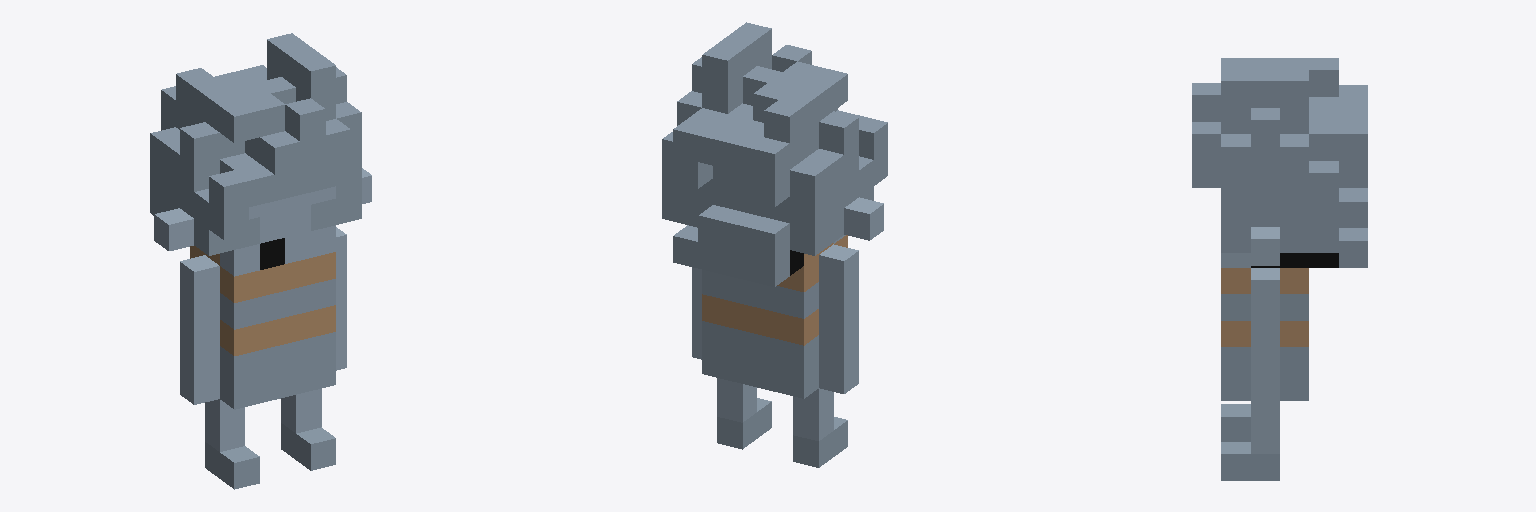
3 renders of one model, left to right at view 1: azimuth 30°, elevation 25°; view 2: azimuth 150°, elevation 25°; view 3: azimuth 270°, elevation 25°, orthographic.
Visible parts, largest first — view 1: boy2-3; view 2: boy2-3; view 3: boy2-3.
Boxes of the visible parts, <box> form: boy2-3: <box>150,33,371,489</box>; boy2-3: <box>662,22,887,467</box>; boy2-3: <box>1192,58,1367,480</box>.
Size of the model in its own units: 8 by 15 by 6.
1 materials, 1 textured.